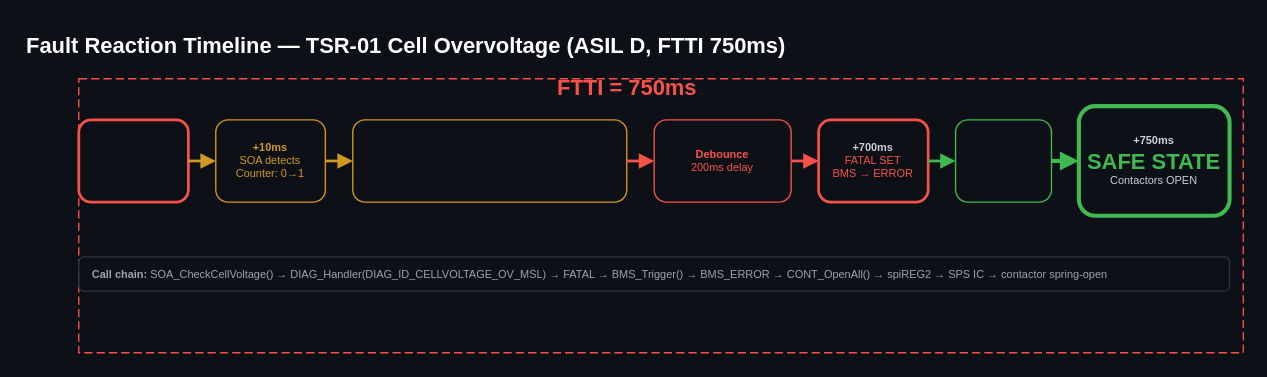
Some shapes in this 1267 by 377 pixel diagram are drawn without their labels. The shapes that lost their labels are listed below. From the top down, each one's box as (x1, y1, x2, y2) in pixels, then its label:
(77, 118, 189, 203): t₀ Cell > 2800mV Fault occurs
(351, 119, 627, 202): Threshold accumulation 50 × 10ms = 500ms DIAG counter increments
(954, 119, 1051, 202): SPS cmd Coils off
